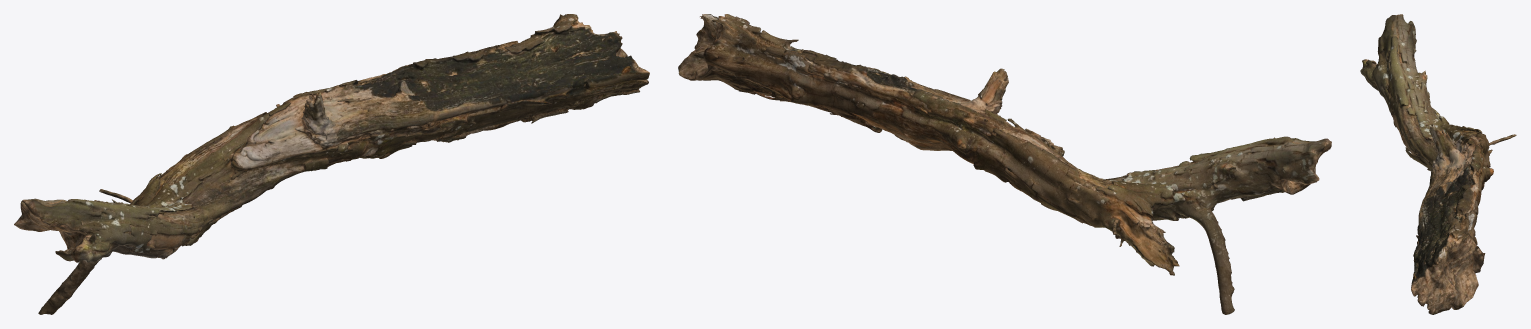
Rendered from dead_tree_trunk_02.glb.
3 views of the same model, side by side, from view 1: azimuth 30°, elevation 25°; view 2: azimuth 150°, elevation 25°; view 3: azimuth 270°, elevation 25° (orthographic). The views are drawn at different scales.
Parts seen in each view (by area): view 1: dead_tree_trunk_02; view 2: dead_tree_trunk_02; view 3: dead_tree_trunk_02.
Boxes of the visible parts, x1,y1,x2,y2 form: dead_tree_trunk_02: (14,14,649,314); dead_tree_trunk_02: (678,14,1331,314); dead_tree_trunk_02: (1360,14,1516,314).
Bounding box in the file's own units: 4.05 × 1.06 × 1.06.
Materials: 1 (1 with a texture image).
